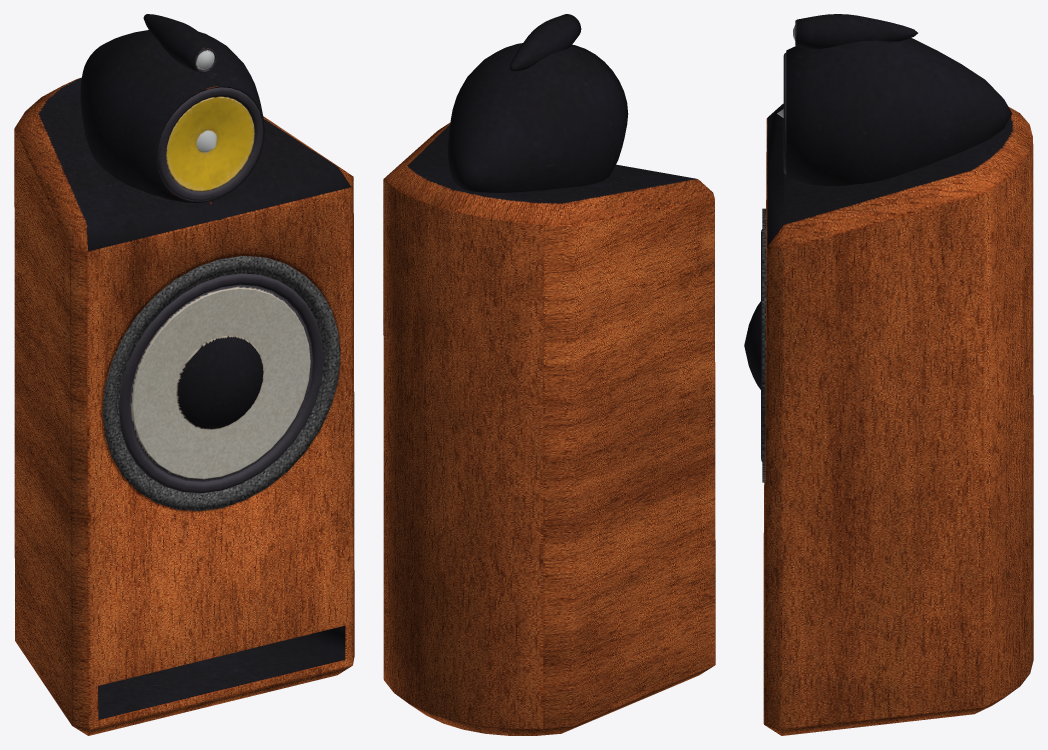
3 views of the same model, side by side, from view 1: azimuth 30°, elevation 25°; view 2: azimuth 150°, elevation 25°; view 3: azimuth 270°, elevation 25° (orthographic). The views are drawn at different scales.
Visible parts, largest first — view 1: Cube.001; view 2: Cube.001; view 3: Cube.001.
Boxes of the visible parts, x1,y1,x2,y2 form: Cube.001: (14,14,354,735); Cube.001: (383,14,715,735); Cube.001: (744,14,1033,735).
Size of the model in its own units: 193 by 427 by 170.
Materials: 1 (1 with a texture image).
